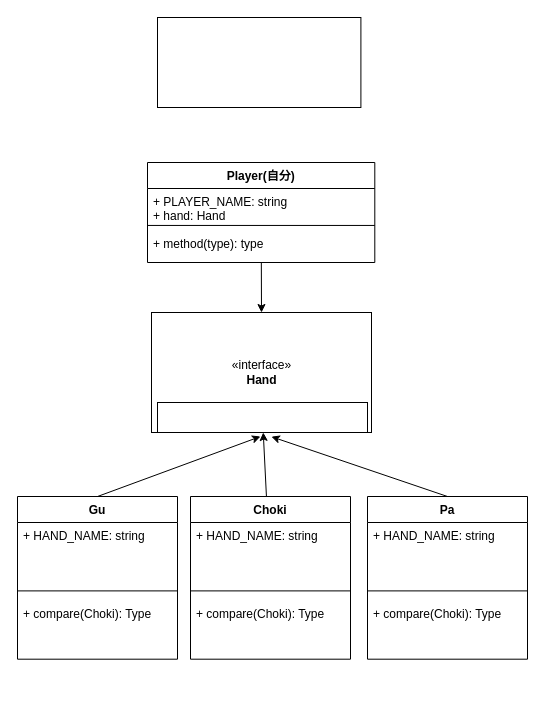
Some shapes in this 545 by 710 pixel diagram are drawn without their labels. The shapes that lost their labels are listed below. From the top down, each one's centre as x and y in pixels, then its label:
At point 258,62: "Game + judge(Player p1,Player p2): int".
At point 262,417: "compare(Hand hand):int".
